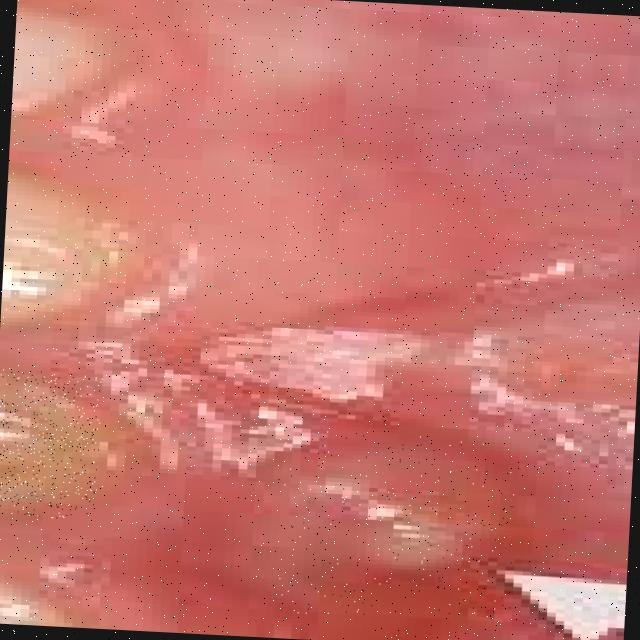abscess: (269, 429, 518, 624)
caries: (0, 369, 101, 520)
